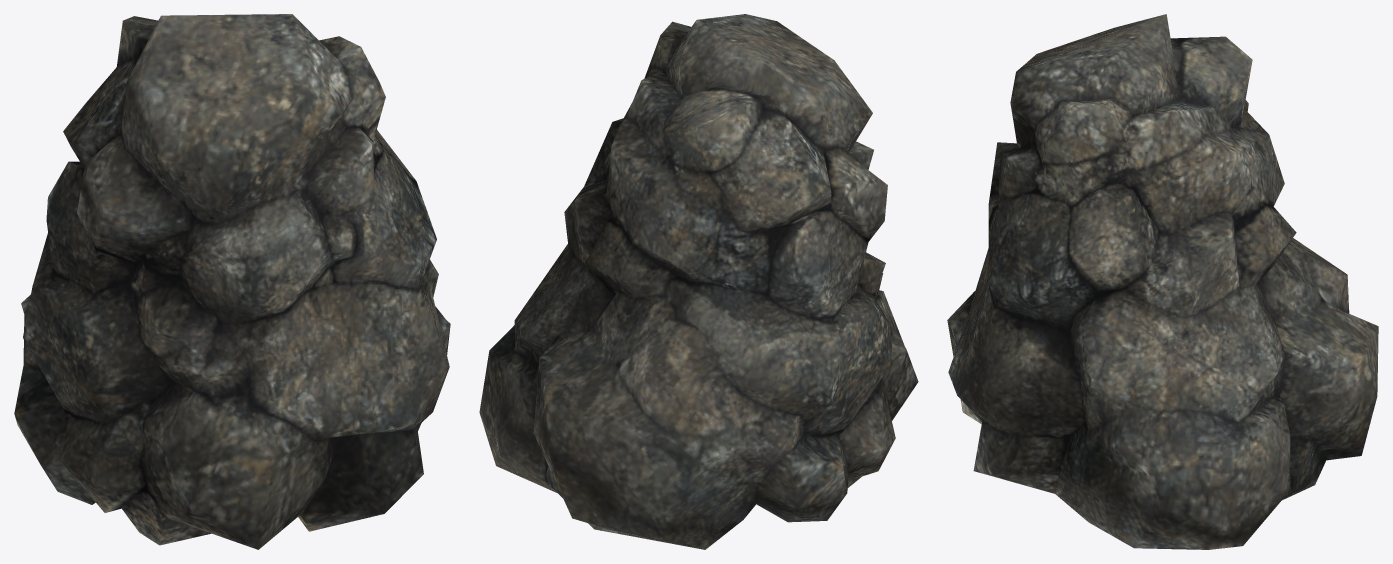
The model's file is SC_yonghengsenlin_shitou14.FBX.
3 views of the same model, side by side, from view 1: azimuth 30°, elevation 25°; view 2: azimuth 150°, elevation 25°; view 3: azimuth 270°, elevation 25° (orthographic). The views are drawn at different scales.
Parts seen in each view (by area): view 1: SC_yonghengsenlin_shitou14; view 2: SC_yonghengsenlin_shitou14; view 3: SC_yonghengsenlin_shitou14.
Part boxes in pixels (left/top/right/bottom): SC_yonghengsenlin_shitou14: left=14, top=14, right=450, bottom=549; SC_yonghengsenlin_shitou14: left=479, top=14, right=918, bottom=549; SC_yonghengsenlin_shitou14: left=947, top=14, right=1378, bottom=549.
Bounding box in the file's own units: 979 × 1118 × 1006.
